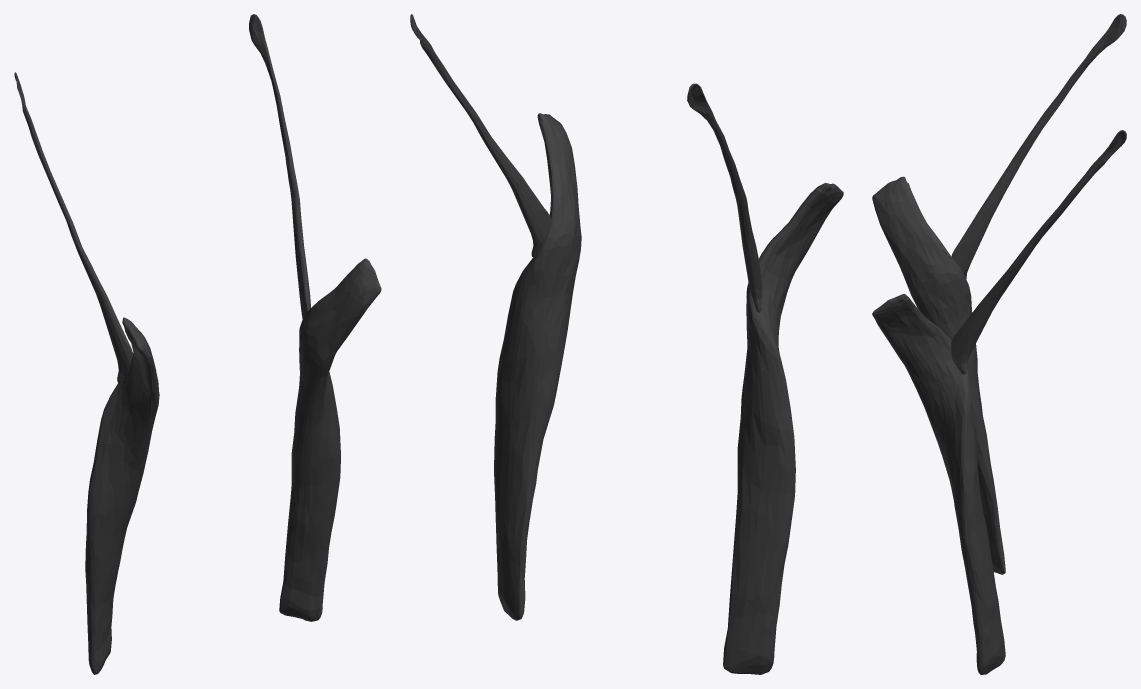
Rendered from m_semitendinosus.glb.
3 views of the same model, side by side, from view 1: azimuth 30°, elevation 25°; view 2: azimuth 150°, elevation 25°; view 3: azimuth 270°, elevation 25° (orthographic). The views are drawn at different scales.
Visible parts, largest first — view 1: m_semitendinosus; view 2: m_semitendinosus; view 3: m_semitendinosus.
Part boxes in pixels (x1,y1,x2,y2): m_semitendinosus: (14,14,381,674); m_semitendinosus: (410,14,843,674); m_semitendinosus: (872,14,1126,674).
Size of the model in its own units: 0.00426 by 0.00892 by 0.00374.
Materials: 1 (1 with a texture image).
